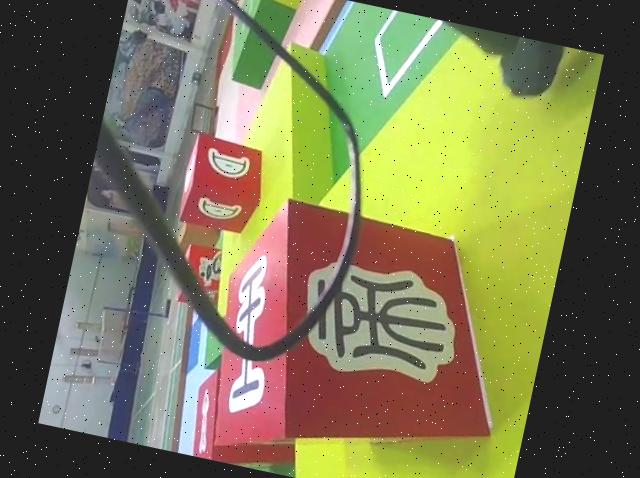R1: (166, 236, 238, 318)
R2 Fake: (189, 191, 533, 478)
R2 Real: (168, 127, 270, 241)
